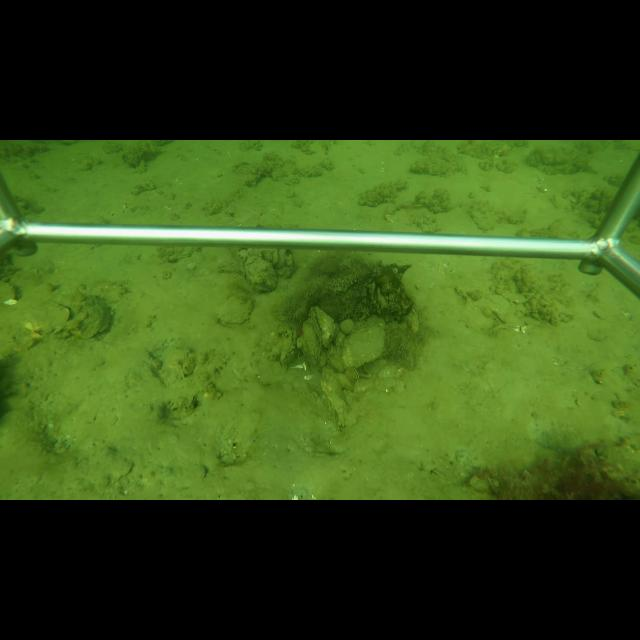Oyster-Closed: (341, 318, 389, 374), (242, 256, 278, 294), (216, 293, 254, 327), (302, 319, 322, 365), (280, 326, 300, 364), (325, 354, 343, 374)
Oyster-Open: (308, 305, 336, 349), (344, 365, 362, 387)
